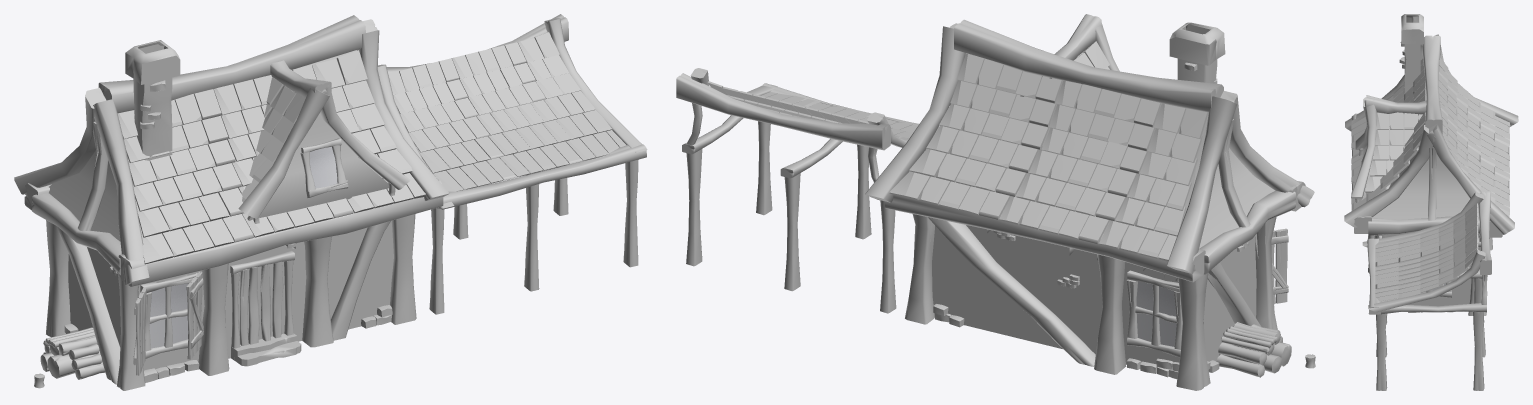
File: CasaCinco.fbx
3 renders of one model, left to right at view 1: azimuth 30°, elevation 25°; view 2: azimuth 150°, elevation 25°; view 3: azimuth 270°, elevation 25°, orthographic. The views are drawn at different scales.
Visible parts, largest first — view 1: Object081; view 2: Object081; view 3: Object081.
Part boxes in pixels (left/top/right/bottom): Object081: left=14, top=14, right=647, bottom=390; Object081: left=676, top=14, right=1315, bottom=390; Object081: left=1344, top=14, right=1518, bottom=390.
Size of the model in its own units: 4.78 by 2.45 by 1.78.
